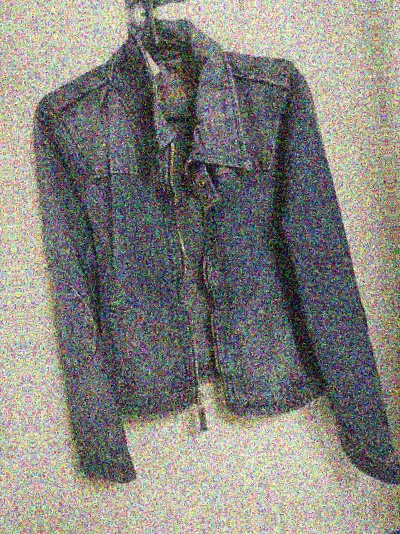Blazer: (0, 22, 395, 503), (0, 58, 32, 534), (398, 0, 400, 464)
